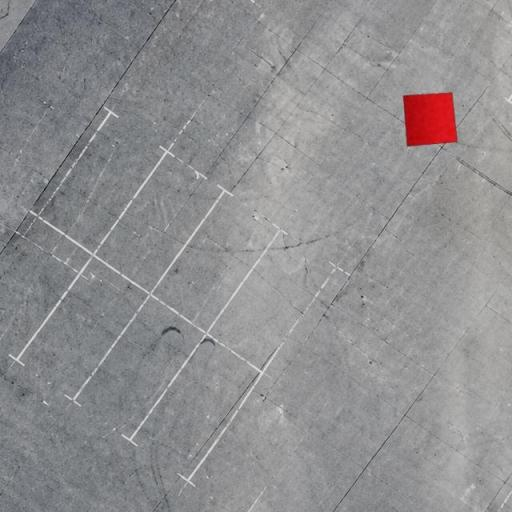RED_SQUARE: (402, 92, 458, 147)
